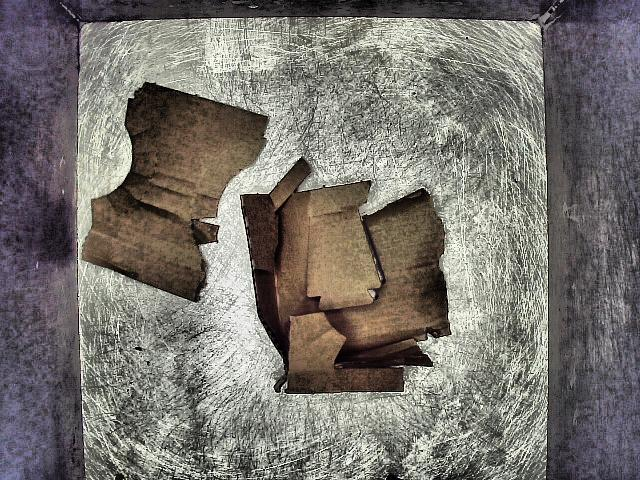Paper: (237, 150, 488, 404), (82, 75, 266, 318)
